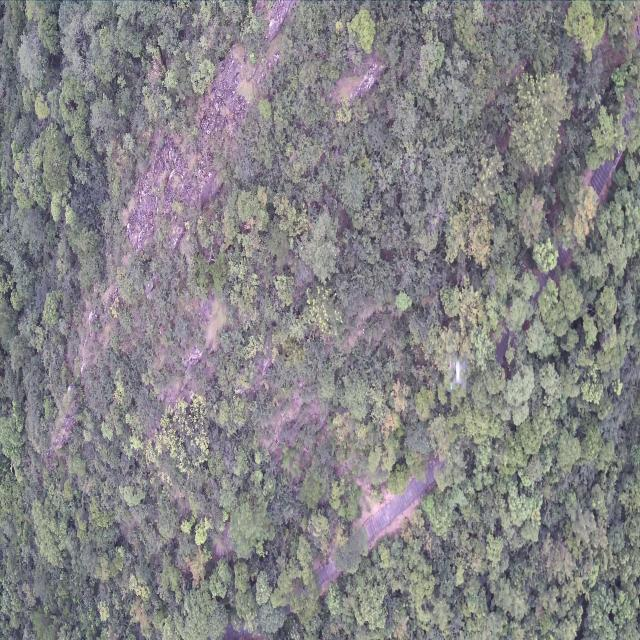UAV: (448, 359, 470, 389)
